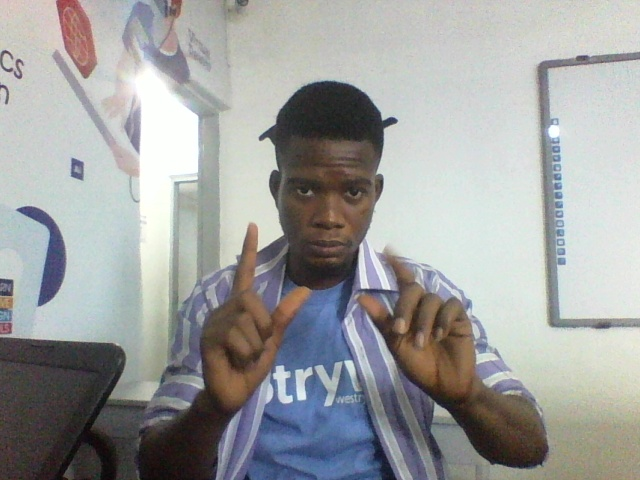nice_to_meet_you: (197, 220, 496, 449)
